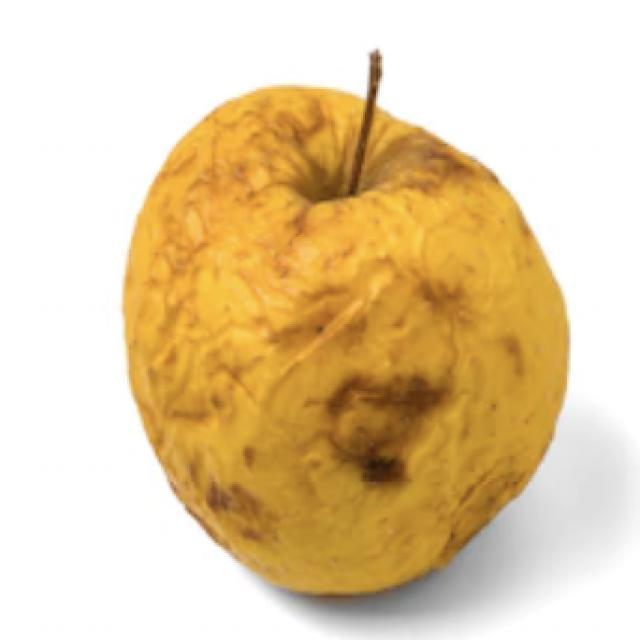Rotten: (116, 75, 572, 607)
